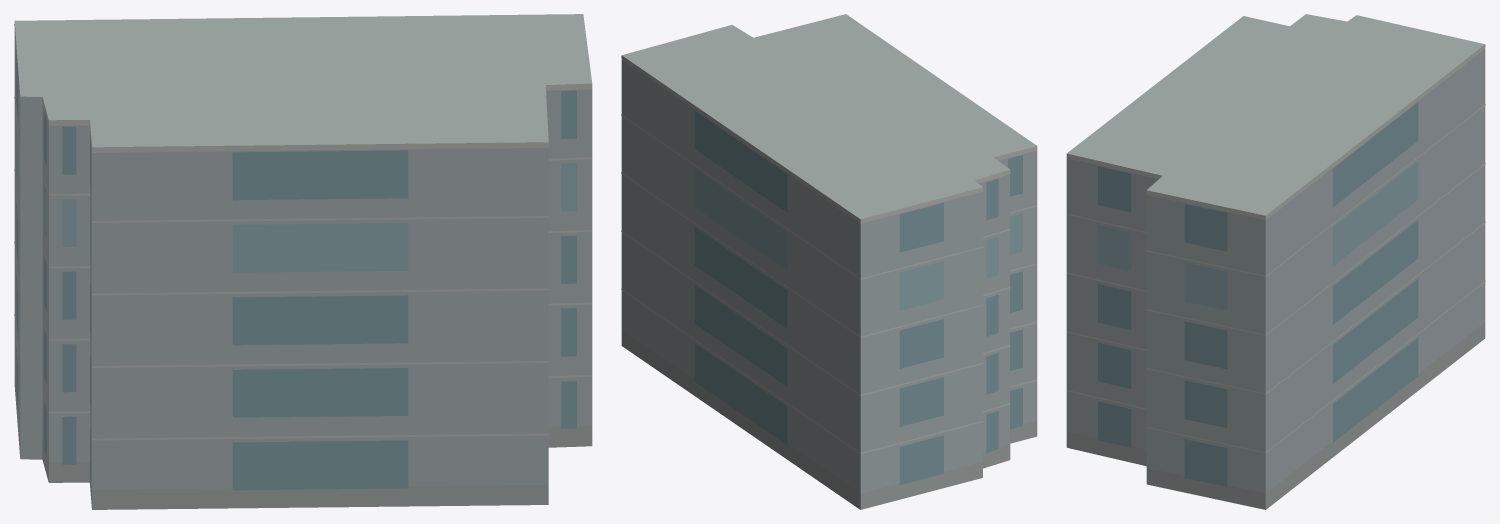
The model's file is survey-upis-32739528.glb.
The picture shows the model from 3 angles, left to right: view 1: azimuth 30°, elevation 25°; view 2: azimuth 150°, elevation 25°; view 3: azimuth 270°, elevation 25°; orthographic projection. The views are drawn at different scales.
Parts seen in each view (by area): view 1: survey-upis-32739528.tmp; view 2: survey-upis-32739528.tmp; view 3: survey-upis-32739528.tmp.
Boxes of the visible parts, x1=… form: survey-upis-32739528.tmp: x1=14, y1=14, x2=592, y2=509; survey-upis-32739528.tmp: x1=621, y1=14, x2=1037, y2=509; survey-upis-32739528.tmp: x1=1066, y1=14, x2=1485, y2=509.
Bounding box in the file's own units: 23.26 × 15.8 × 20.4.
